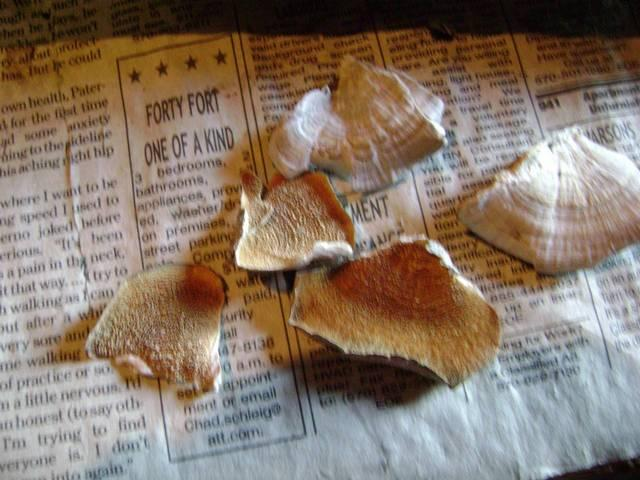Non-edible Mushroom: (286, 236, 502, 389), (456, 125, 638, 275), (267, 53, 448, 196), (83, 261, 228, 398), (232, 168, 356, 273)
